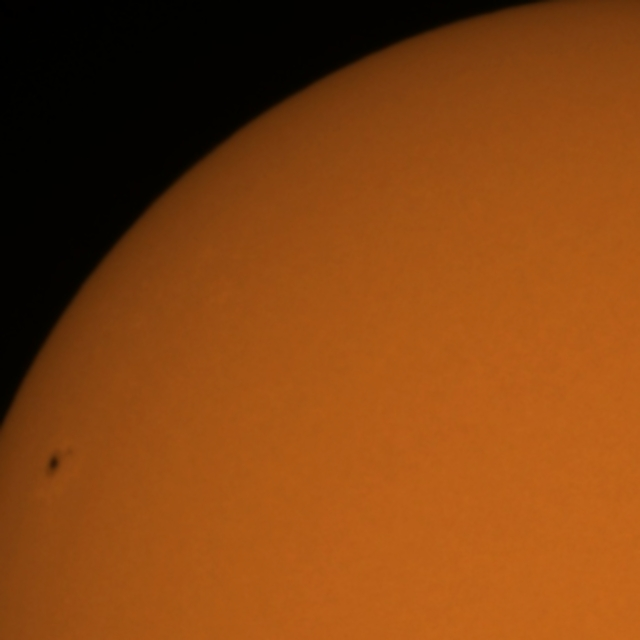sunspot: (43, 445, 75, 480)
